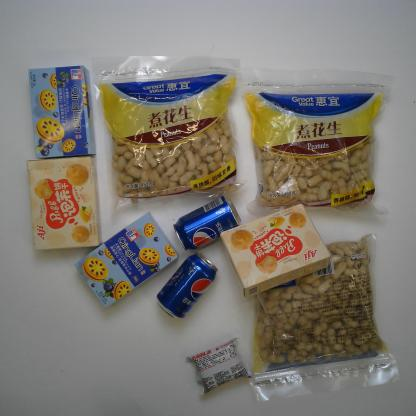Dessert: (218, 199, 348, 300), (72, 211, 178, 311), (13, 155, 113, 257), (22, 63, 100, 163), (188, 331, 252, 402)
Dried Food: (238, 228, 398, 396), (244, 64, 404, 214), (97, 62, 239, 206)
Drink: (169, 194, 252, 256), (160, 249, 224, 326)
